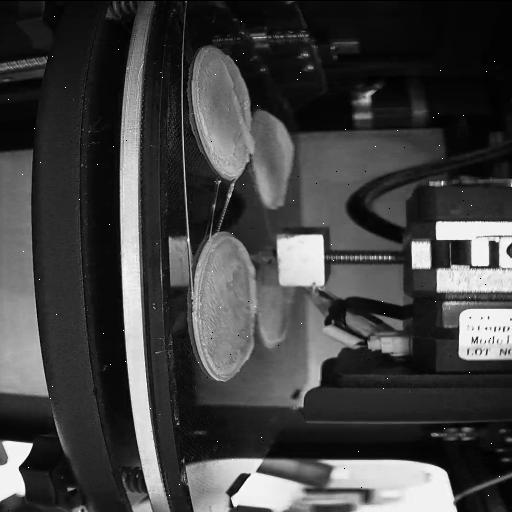over_extrusion: (206, 236, 260, 314), (221, 60, 257, 154), (268, 108, 300, 208), (276, 285, 296, 343), (238, 333, 260, 365)
